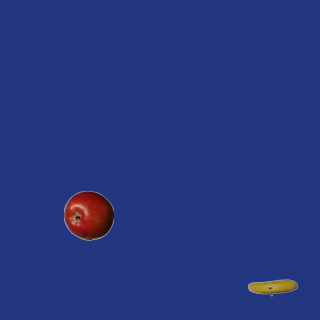Apple Braeburn: (63, 190, 113, 240)
Banana: (247, 262, 297, 312)
